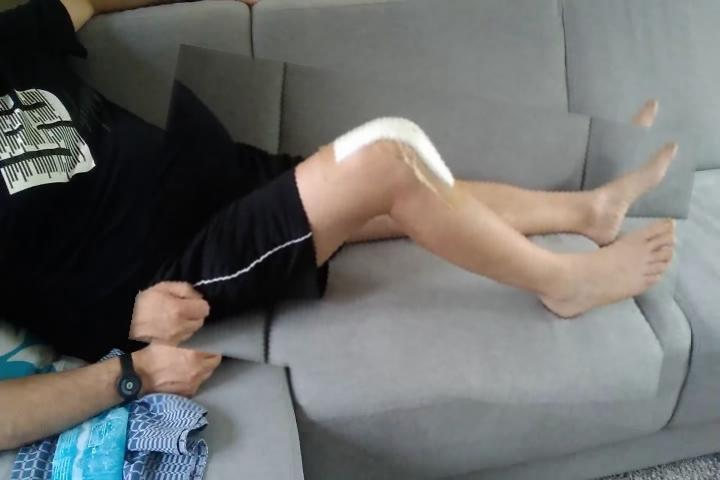lowerbody: (140, 67, 692, 411)
